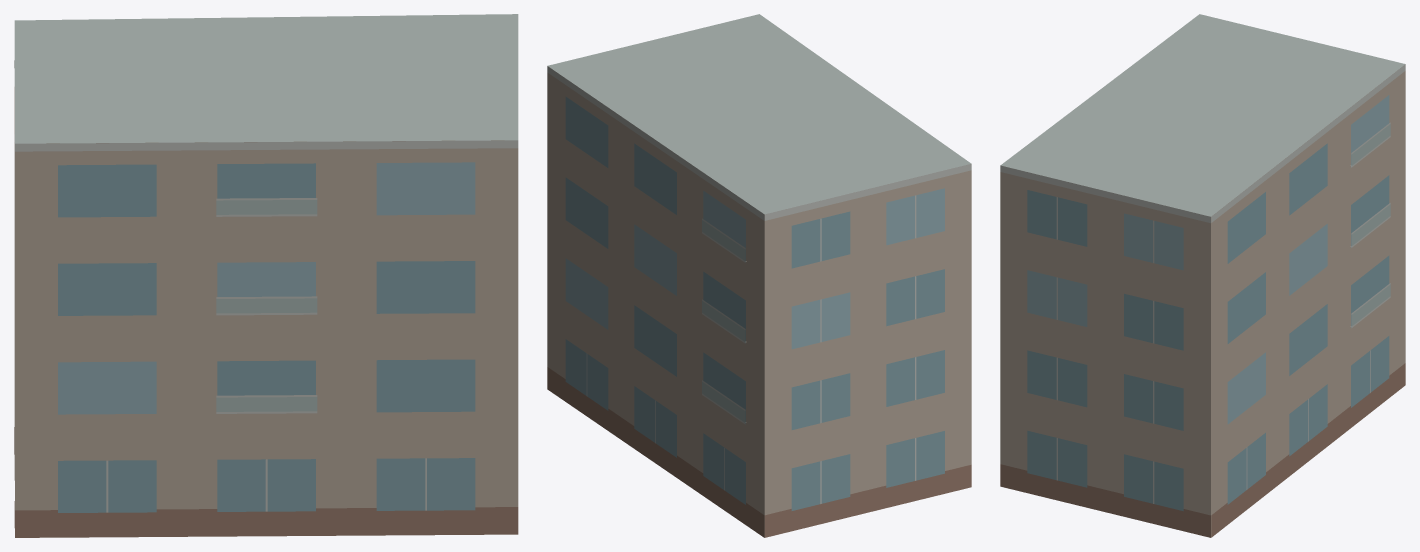
Rendered from survey-upis-32870634.glb.
3 renders of one model, left to right at view 1: azimuth 30°, elevation 25°; view 2: azimuth 150°, elevation 25°; view 3: azimuth 270°, elevation 25°, orthographic. The views are drawn at different scales.
Visible parts, largest first — view 1: survey-upis-32870634.tmp; view 2: survey-upis-32870634.tmp; view 3: survey-upis-32870634.tmp.
Part boxes in pixels (x1=…): survey-upis-32870634.tmp: x1=14, y1=14, x2=518, y2=537; survey-upis-32870634.tmp: x1=547, y1=14, x2=971, y2=537; survey-upis-32870634.tmp: x1=1000, y1=14, x2=1405, y2=537.
Size of the model in its own units: 16.4 by 12.1 by 13.85.
